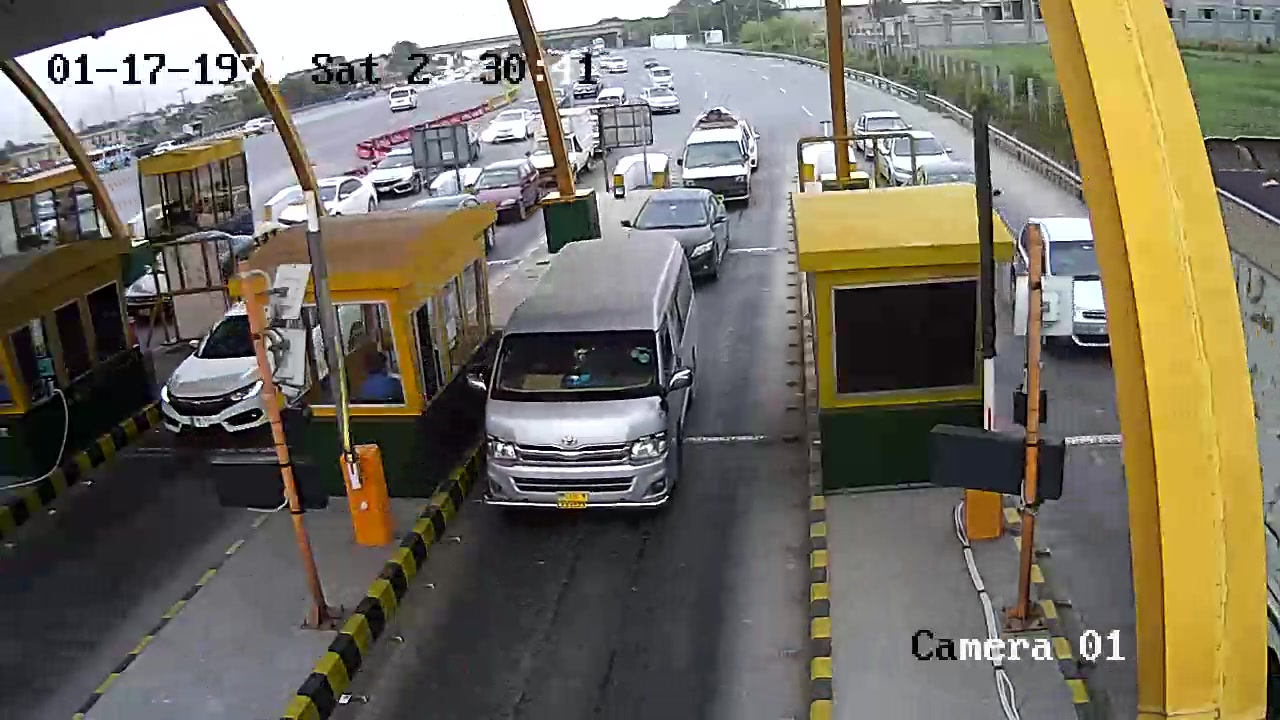F3: (482, 225, 704, 535)
